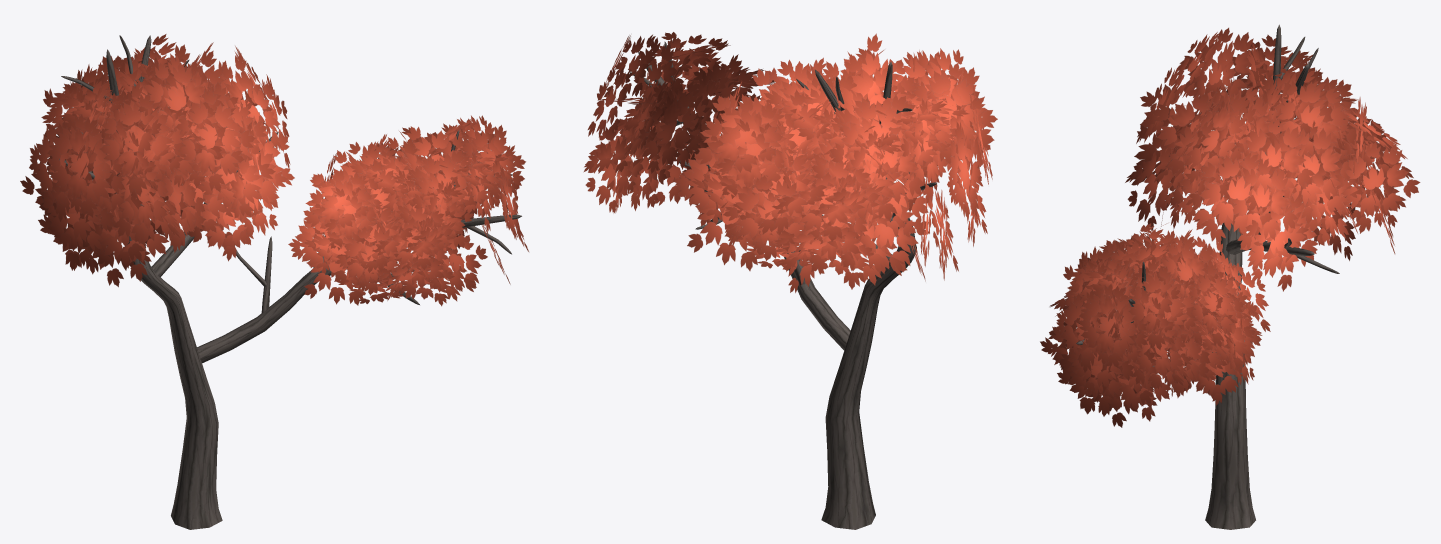
File: manzano.glb
3 renders of one model, left to right at view 1: azimuth 30°, elevation 25°; view 2: azimuth 150°, elevation 25°; view 3: azimuth 270°, elevation 25°, orthographic. The views are drawn at different scales.
Visible parts, largest first — view 1: manzano; view 2: manzano; view 3: manzano.
Boxes of the visible parts, x1,y1,x2,y2 form: manzano: (20, 34, 528, 529); manzano: (583, 32, 997, 529); manzano: (1040, 24, 1420, 529).
Bounding box in the file's own units: 7.5 × 8 × 5.9.
2 materials, 2 textured.
